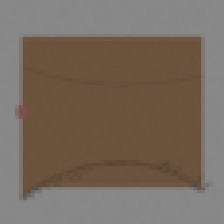pinguecula_lesion: (135, 98, 185, 138)
